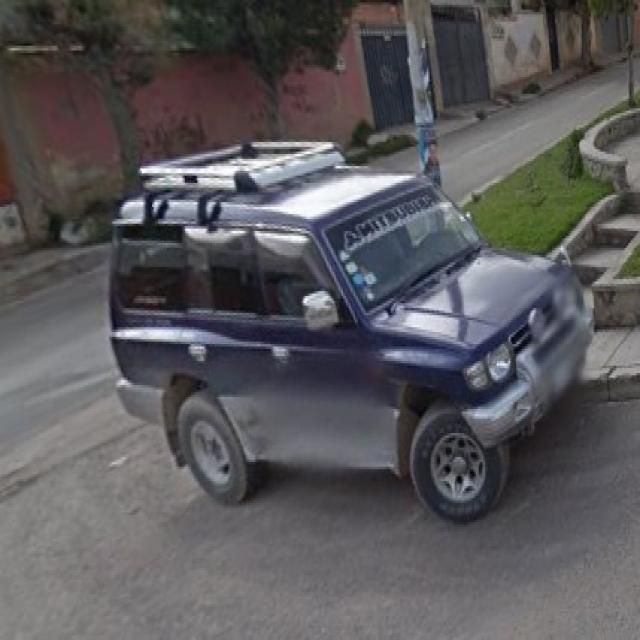cars: (113, 170, 588, 536)
